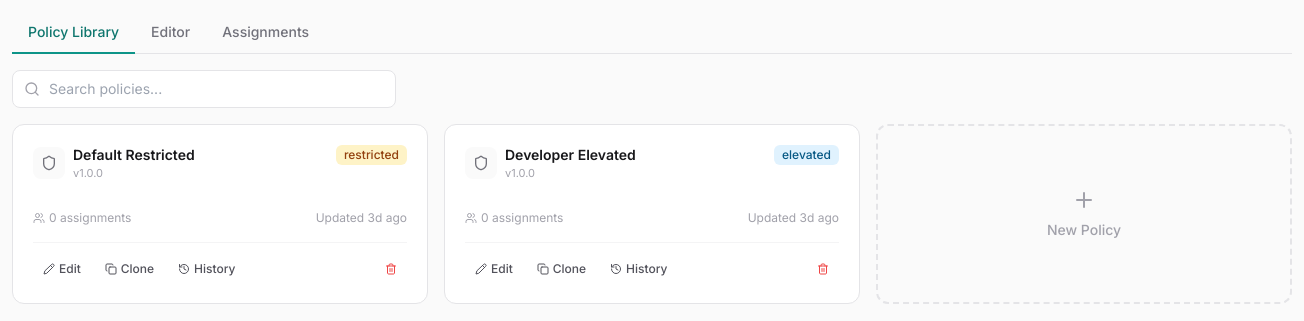
Policies page › filters policies by search term
The image size is (1304, 321).
Expected: the heading "Default Restricted" is shown, left=73, top=145, right=195, bottom=165
Step 1. Type "Developer" into the field with placeholder "Search policies..." → x=204, y=89, box left=12, top=70, right=396, bottom=108
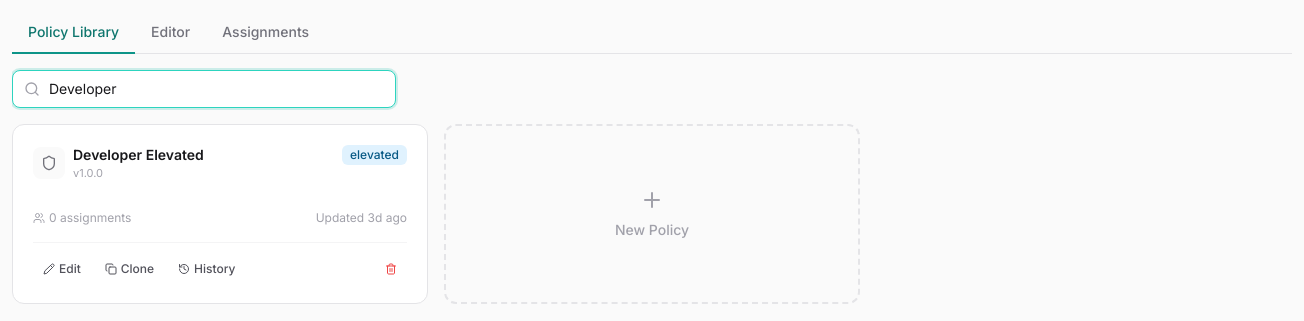
Expected: the heading "Developer Elevated" is shown, left=73, top=145, right=204, bottom=165
Result: the heading "Default Restricted" is gone
